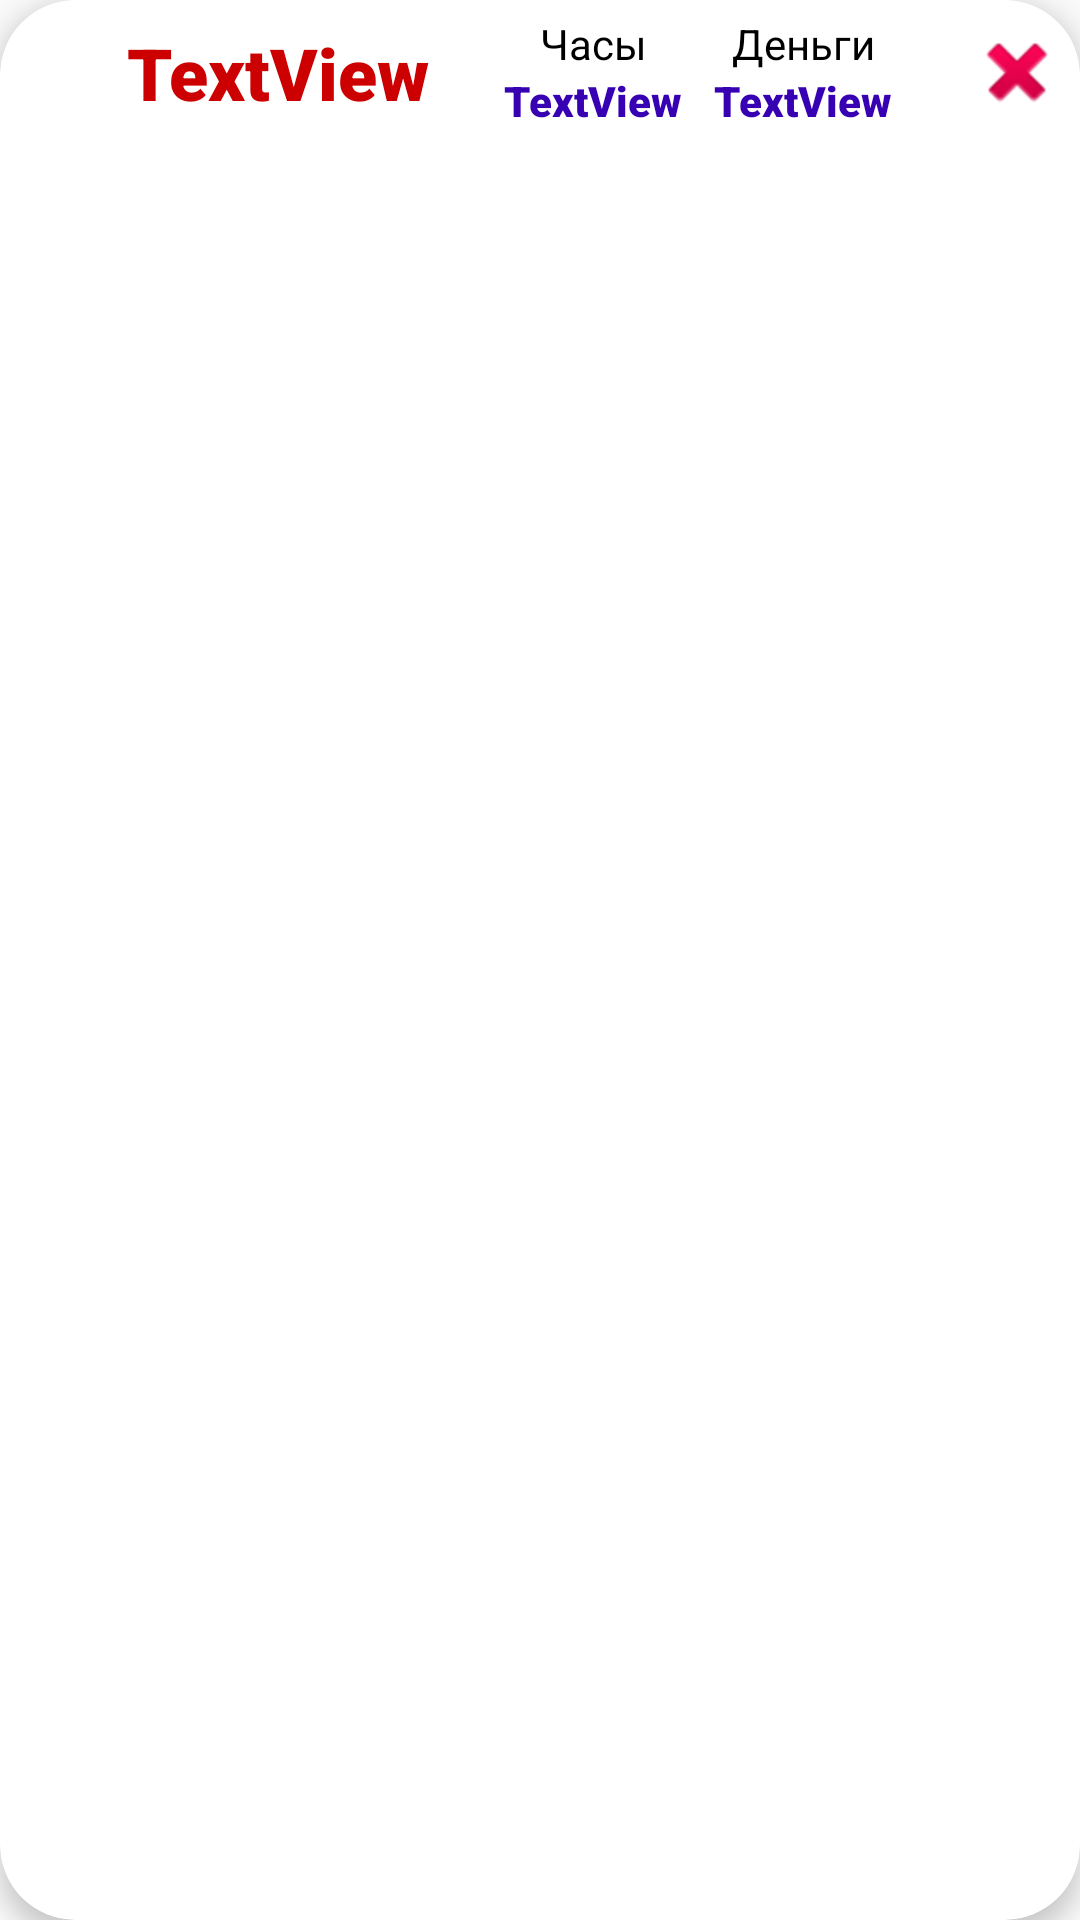

Screen size 1080*1920. Icon name, then its center in pixels as [x,y]:
delete: [1017,72]
